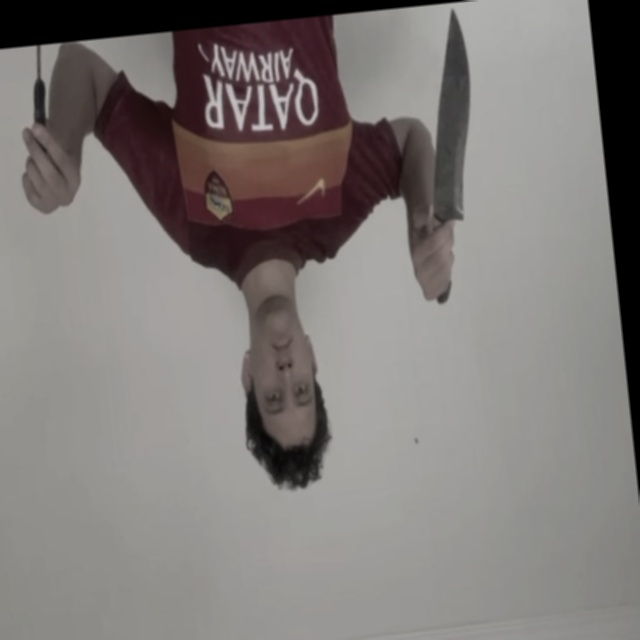Sharp-Object: (412, 8, 485, 224)
